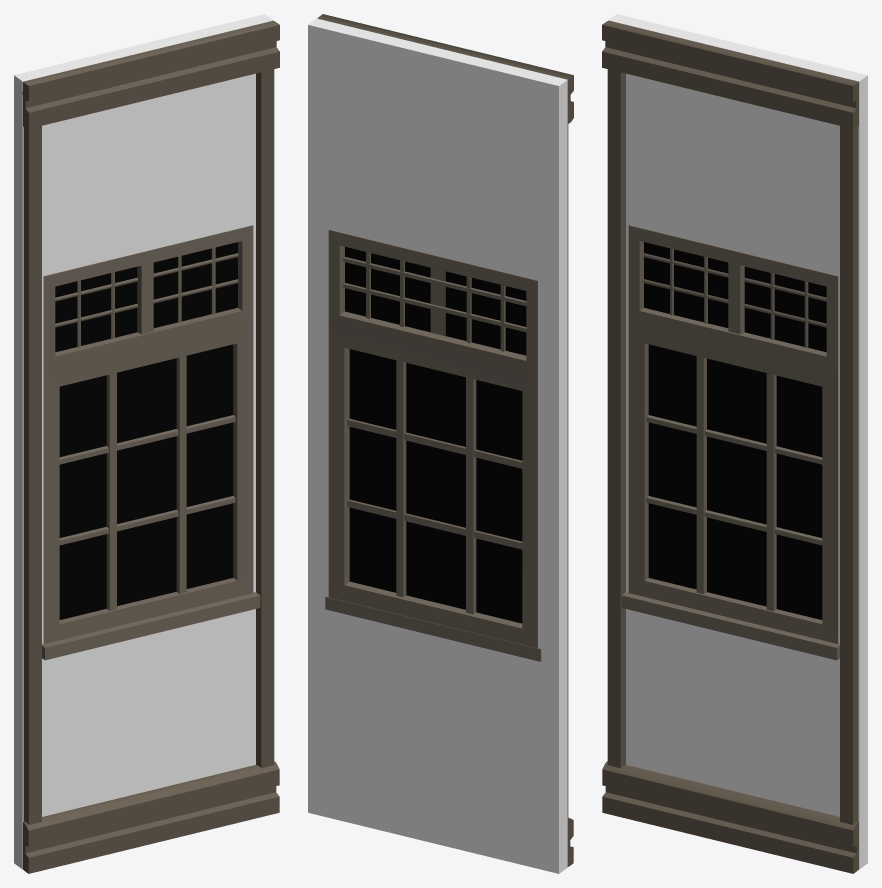
File: WINDOW_04_1.fbx
3 views of the same model, side by side, from view 1: azimuth 30°, elevation 25°; view 2: azimuth 150°, elevation 25°; view 3: azimuth 330°, elevation 25° (orthographic).
Parts seen in each view (by area): view 1: WINDOW_04_1; view 2: WINDOW_04_1; view 3: WINDOW_04_1.
Boxes of the visible parts, box(x1,y1,x2,y2) form: WINDOW_04_1: box(14, 14, 279, 873); WINDOW_04_1: box(308, 14, 573, 873); WINDOW_04_1: box(602, 14, 867, 873).
Bounding box in the file's own units: 100 × 300 × 10.68.
